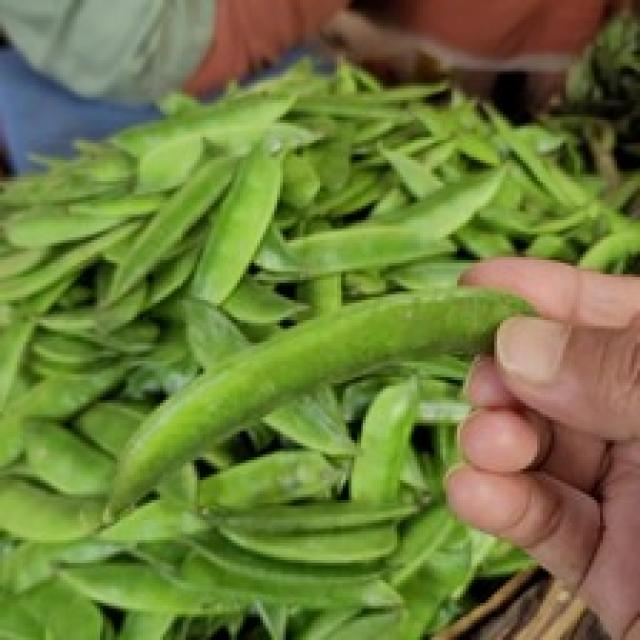Bean: (0, 49, 637, 637), (100, 280, 540, 523)
